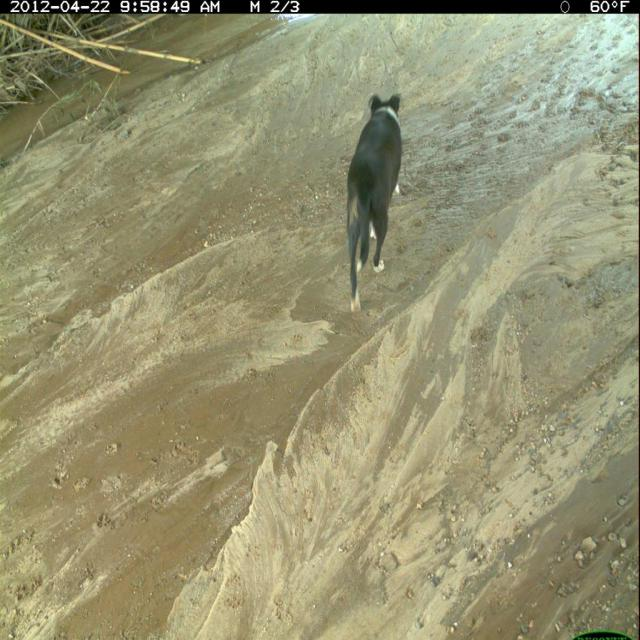dog: (343, 90, 409, 317)
